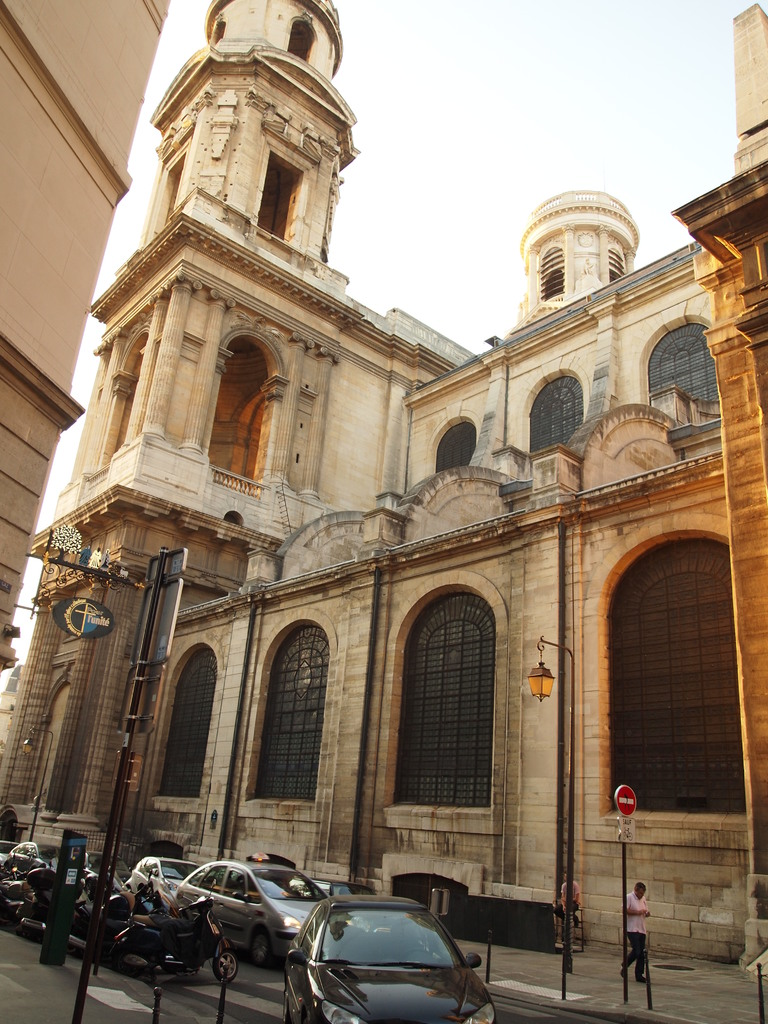Car: (272, 888, 501, 1023), (176, 846, 326, 972), (7, 836, 99, 892), (111, 851, 199, 907), (5, 828, 58, 877)
